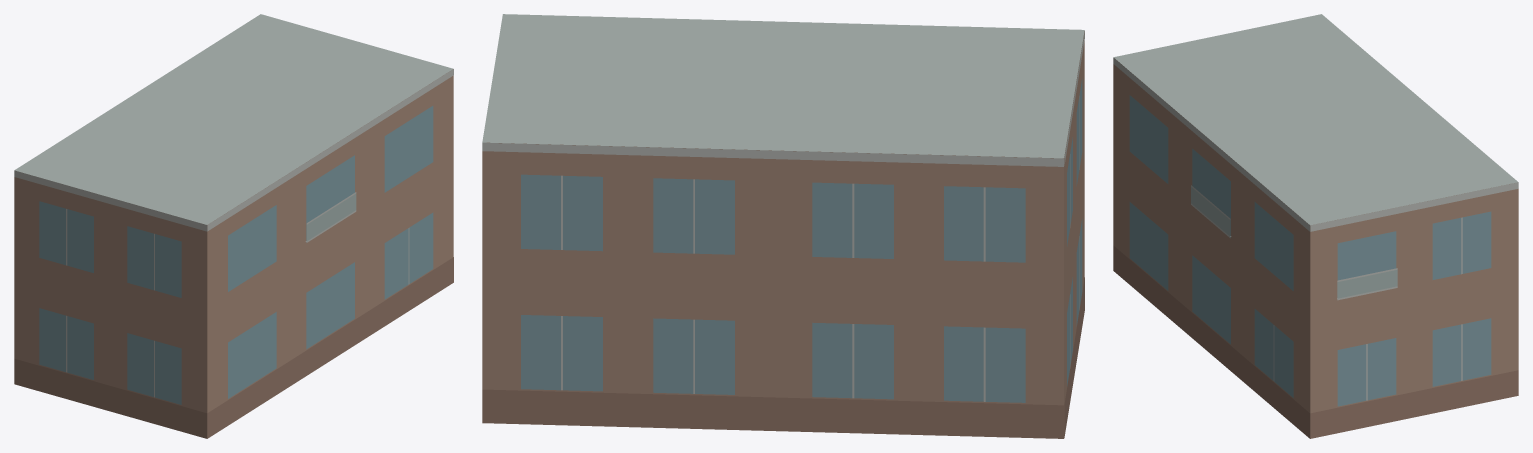
The model's file is survey-upis-32747986.glb.
3 views of the same model, side by side, from view 1: azimuth 30°, elevation 25°; view 2: azimuth 150°, elevation 25°; view 3: azimuth 270°, elevation 25° (orthographic). The views are drawn at different scales.
Visible parts, largest first — view 1: survey-upis-32747986.tmp; view 2: survey-upis-32747986.tmp; view 3: survey-upis-32747986.tmp.
Boxes of the visible parts, x1,y1,x2,y2 form: survey-upis-32747986.tmp: [14, 14, 453, 438]; survey-upis-32747986.tmp: [482, 14, 1084, 438]; survey-upis-32747986.tmp: [1113, 14, 1518, 438].
Bounding box in the file's own units: 16.88 × 7.95 × 13.68.
